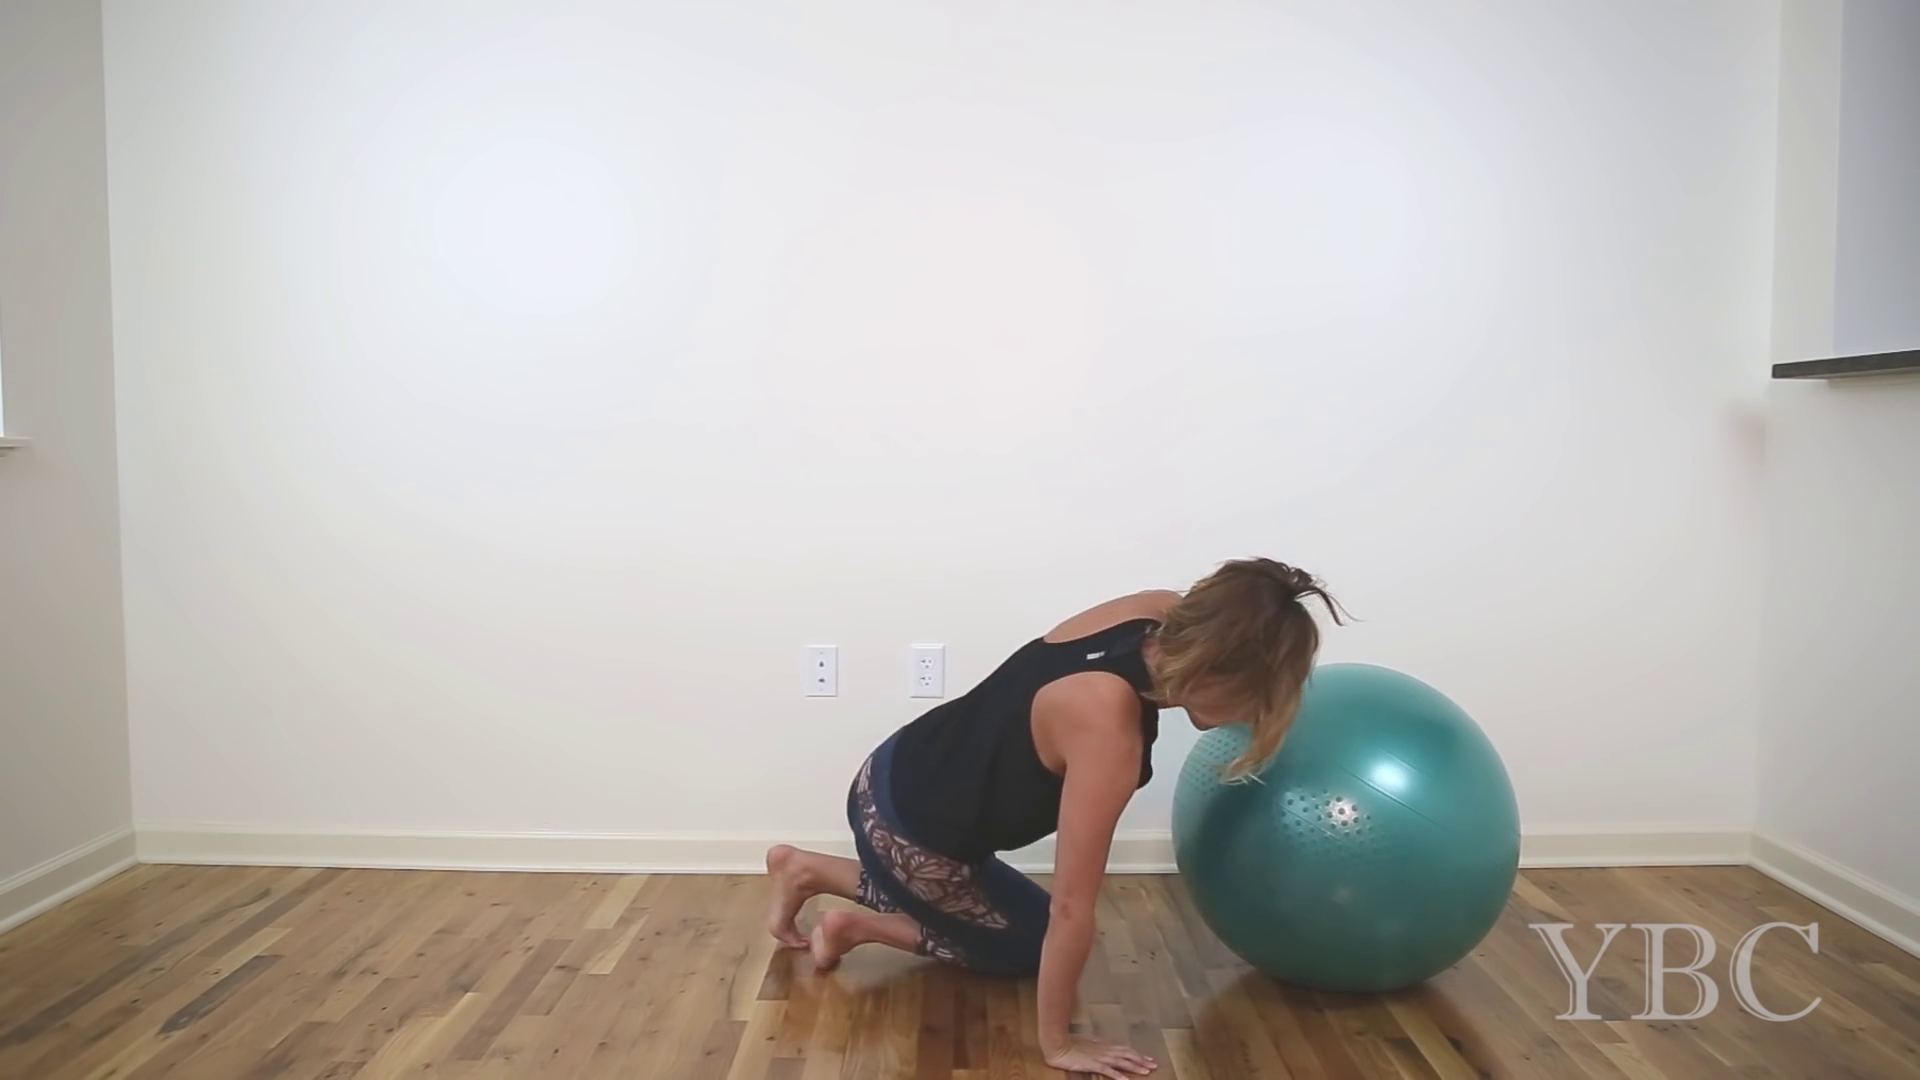yogaball: (1162, 662, 1538, 1006)
